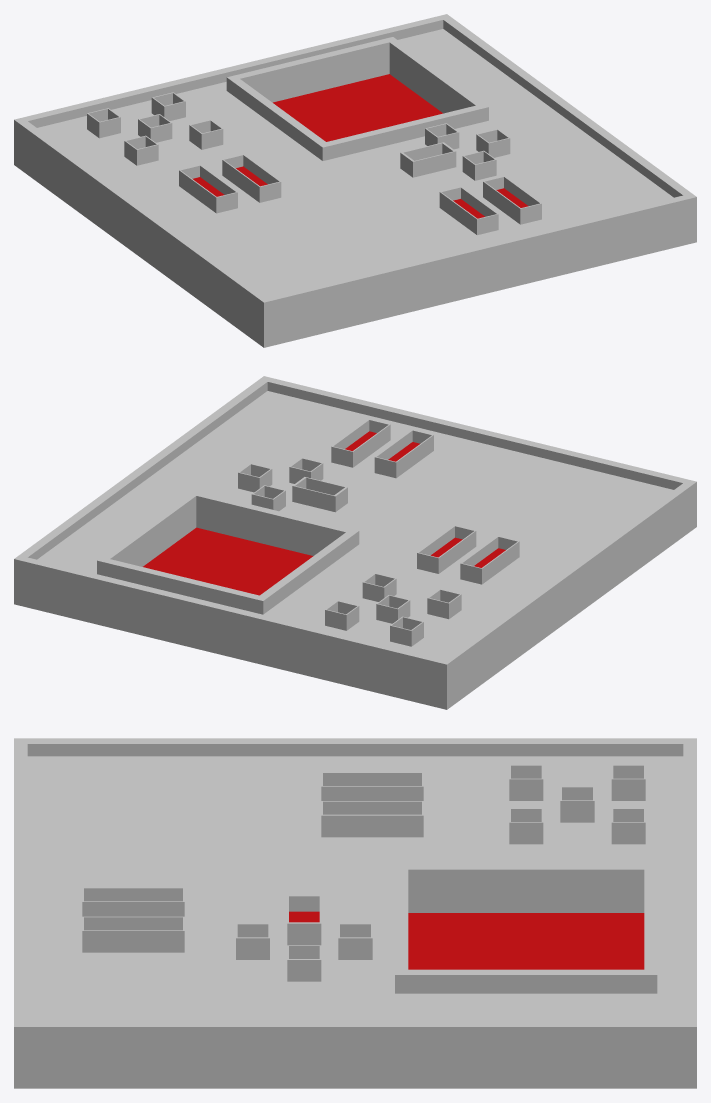
File: LightPanel.fbx
3 renders of one model, top to bottom at view 1: azimuth 30°, elevation 25°; view 2: azimuth 150°, elevation 25°; view 3: azimuth 270°, elevation 25°, orthographic. The views are drawn at different scales.
Parts seen in each view (by area): view 1: LightPanel; view 2: LightPanel; view 3: LightPanel.
Part boxes in pixels (bbox=[...]): LightPanel: bbox=[14, 14, 696, 347]; LightPanel: bbox=[14, 376, 696, 709]; LightPanel: bbox=[14, 738, 696, 1088].
Bounding box in the file's own units: 200 × 23 × 200.
